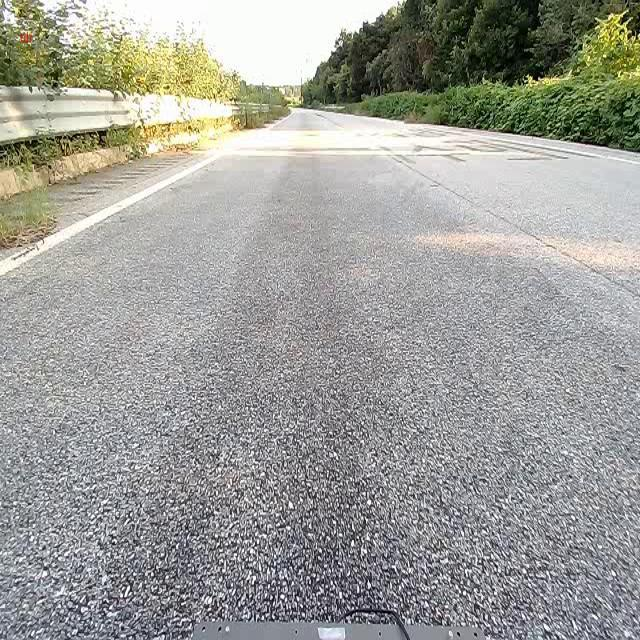Lane: (0, 143, 234, 284), (0, 148, 226, 276)
